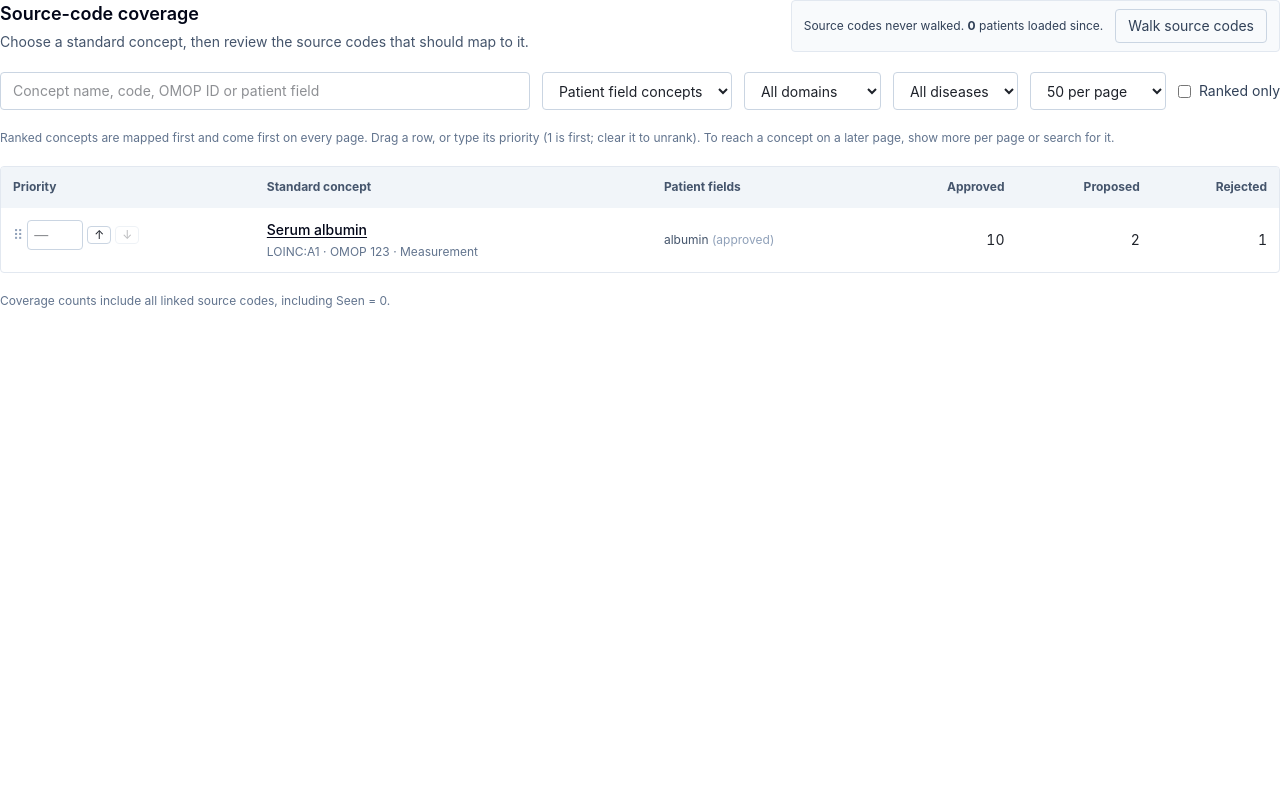
Scenario: concept-first curation › approves only reviewed selections, with revision guards, and has no Find view (#2010)
Click the button "Serum albumin" at {"x": 317, "y": 230}, box [267,220,367,240]
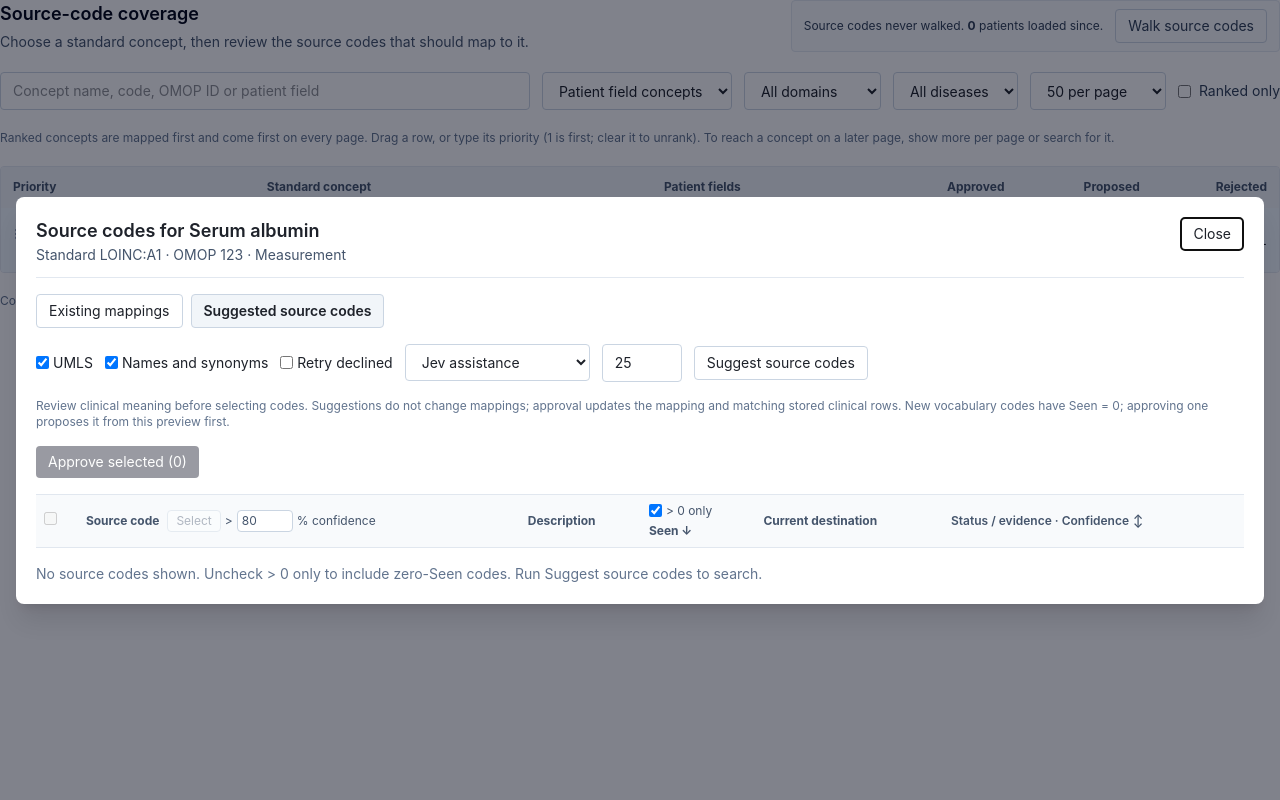
Click the button "Existing mappings" at {"x": 109, "y": 310}, box [36,294,182,328]
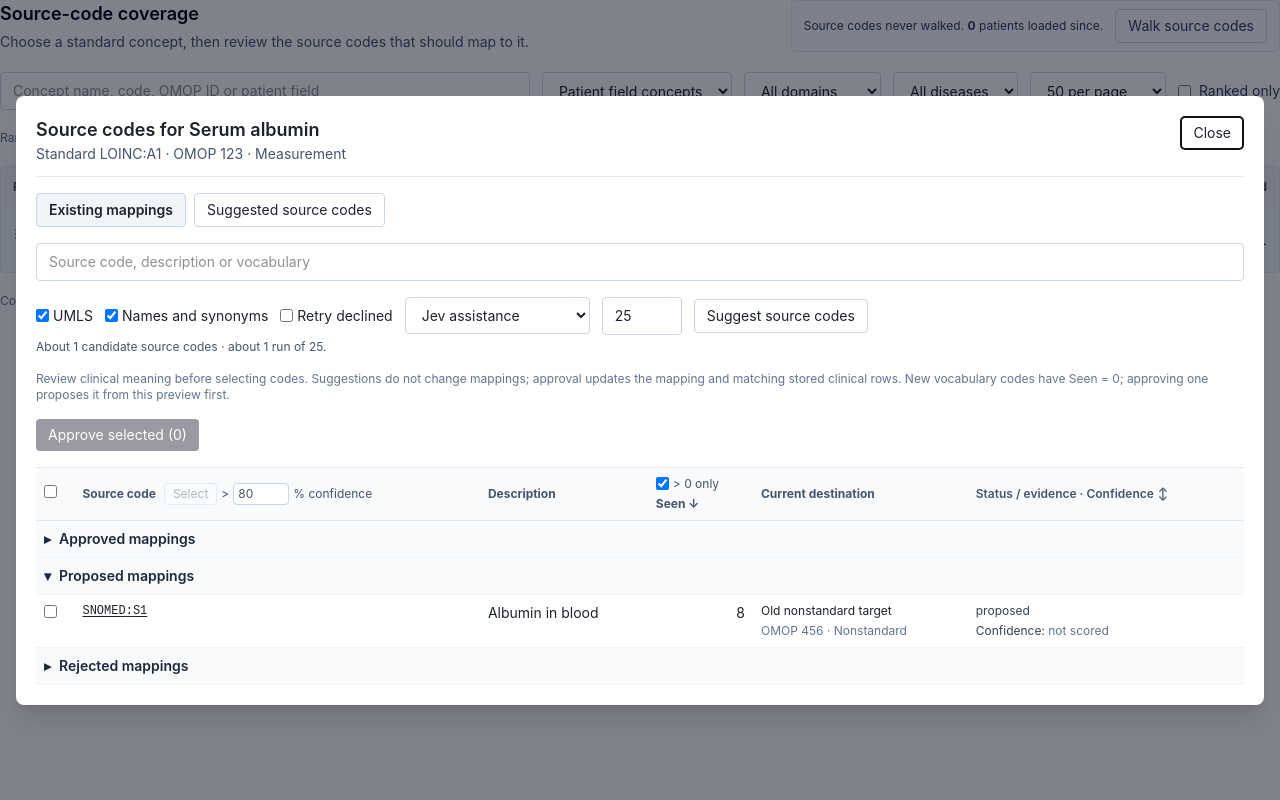
Now the button "Approve selected (0)" is disabled, box [36,418,199,450]
Now the button "SNOMED:S1" is shown, box [82,602,147,618]
Click the checkbox named "Select SNOMED S1" at {"x": 50, "y": 611}, box [44,604,57,618]
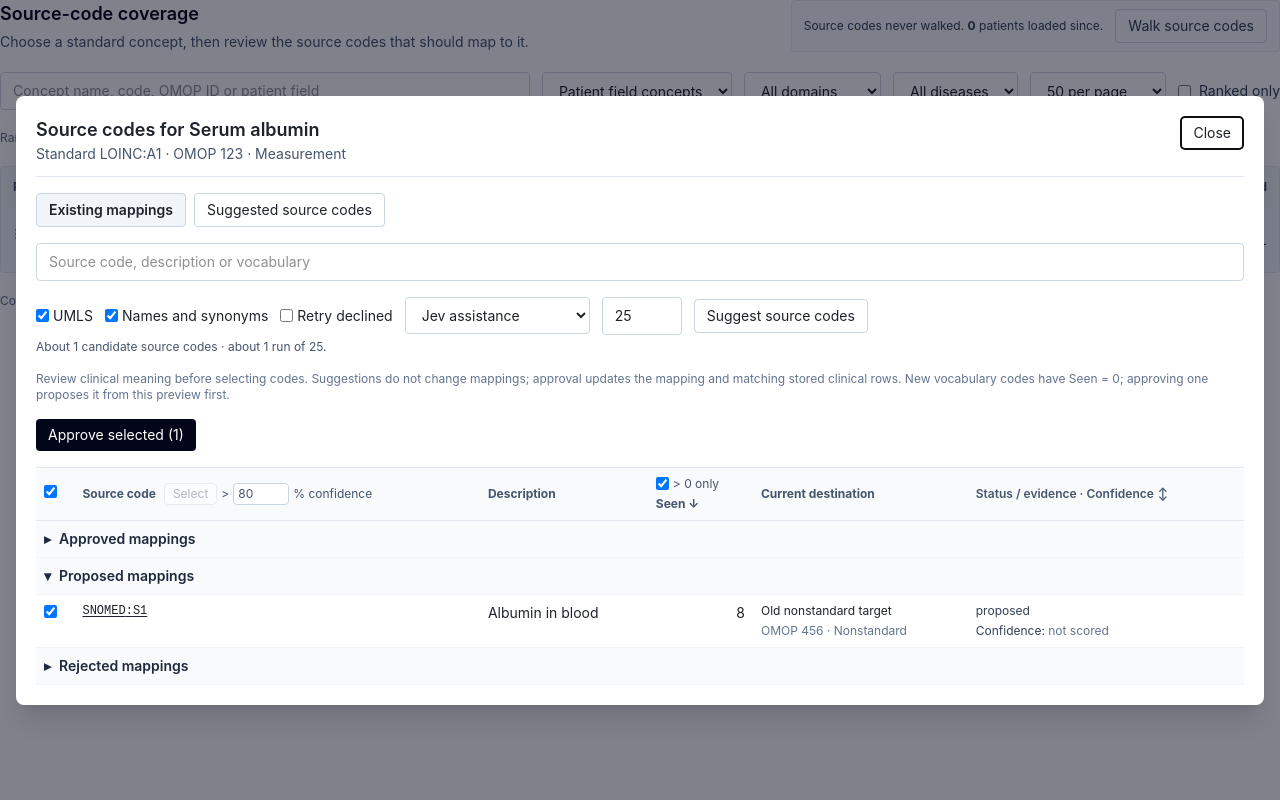
Click the button "Approve selected (1)" at {"x": 116, "y": 434}, box [36,418,196,450]
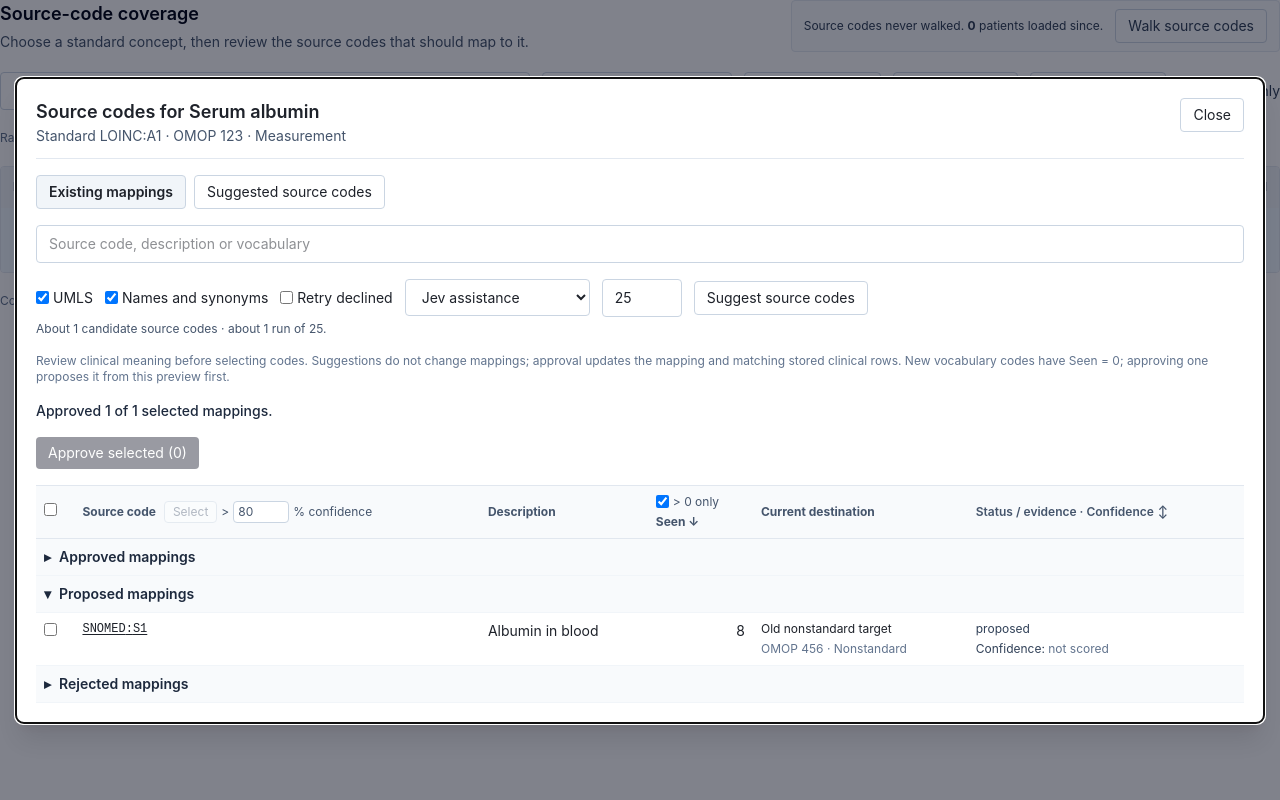
Now the text "Approved 1 of 1 selected mappings." is shown, box [36,402,272,418]
